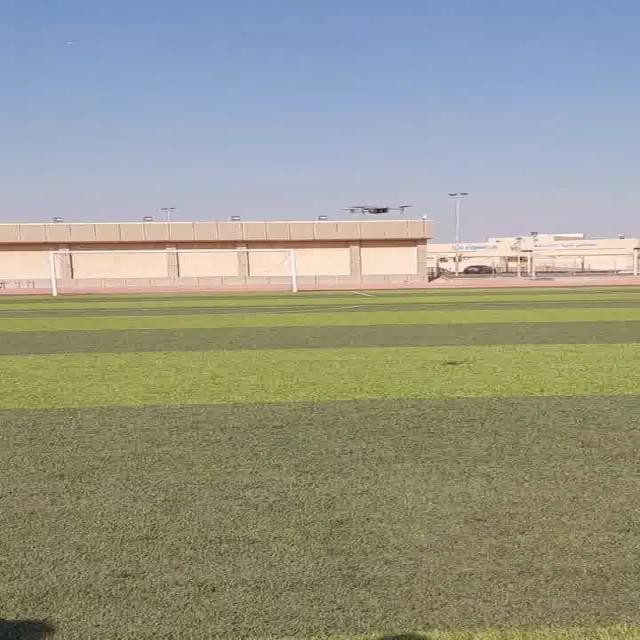drone: (339, 198, 423, 225)
